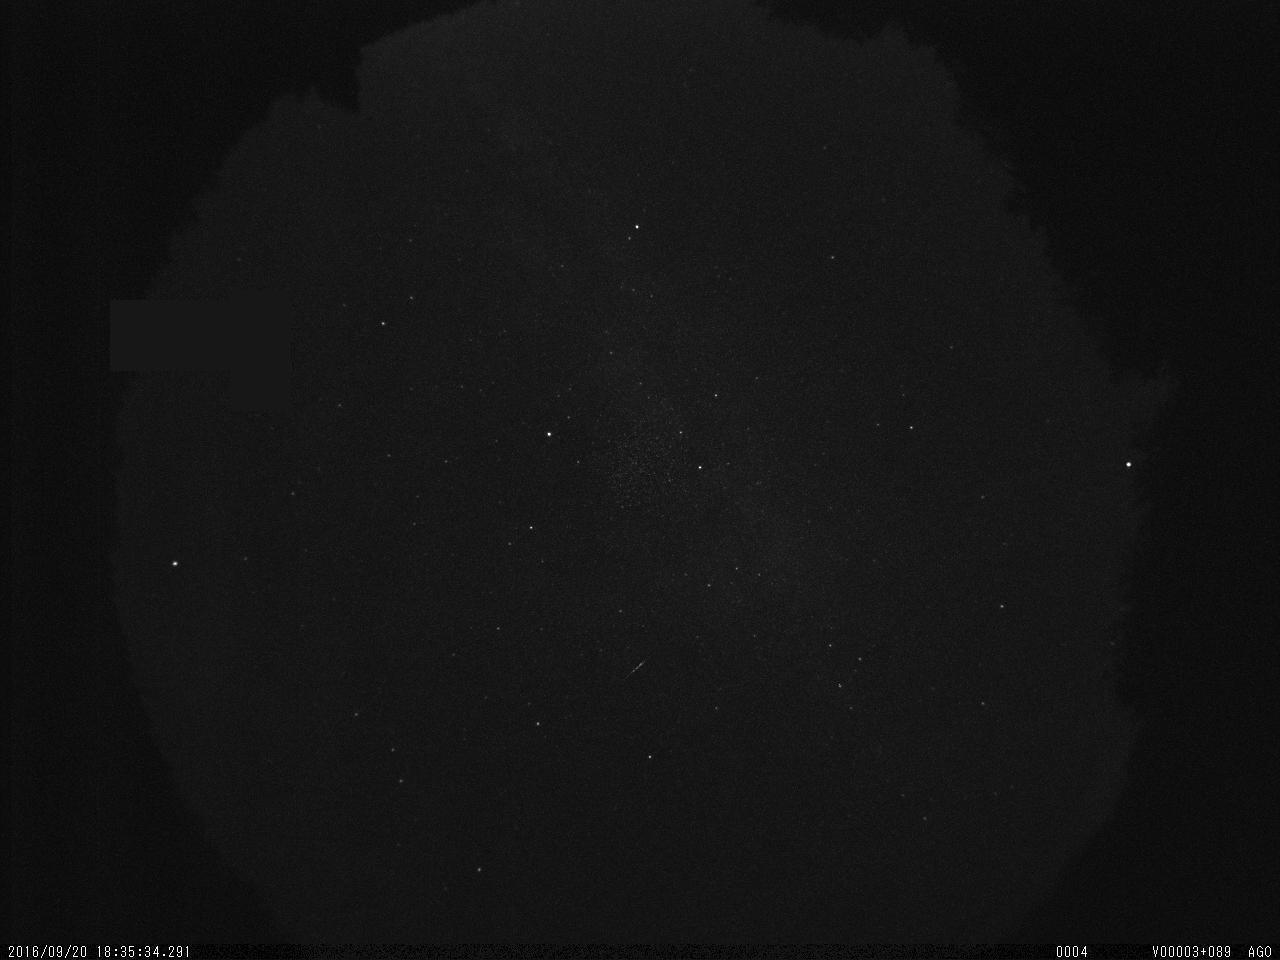Meteor: (624, 656, 651, 683)
